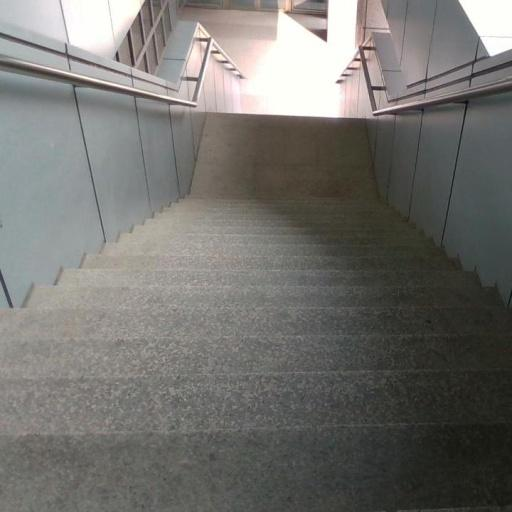stairs: (0, 116, 511, 511)
